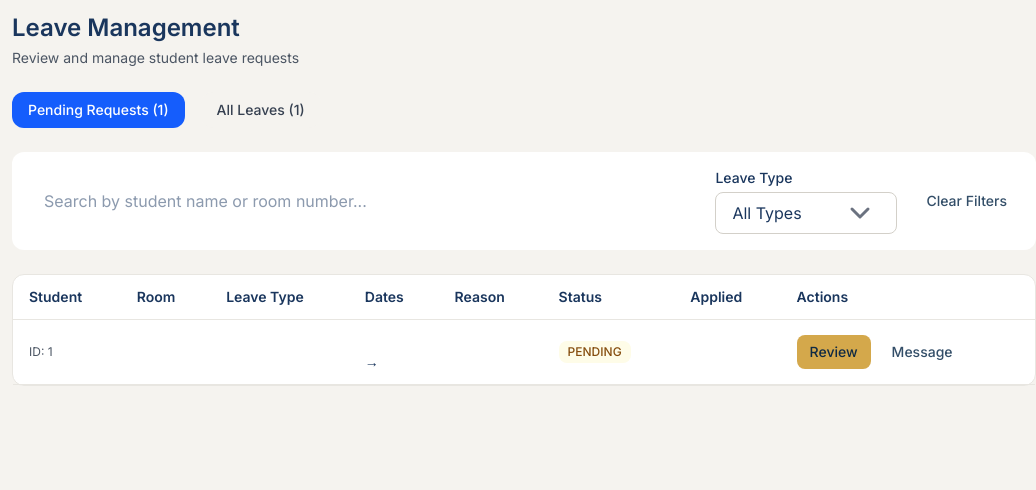
Test: Task 18.2 - Superintendent Leave Management › Filters › should clear all filters when clear button clicked
The width and height of the screenshot is (1036, 490).
Type "Test" into the field with placeholder "Search by student name or room number..." at (364, 201), box [28, 177, 699, 225]
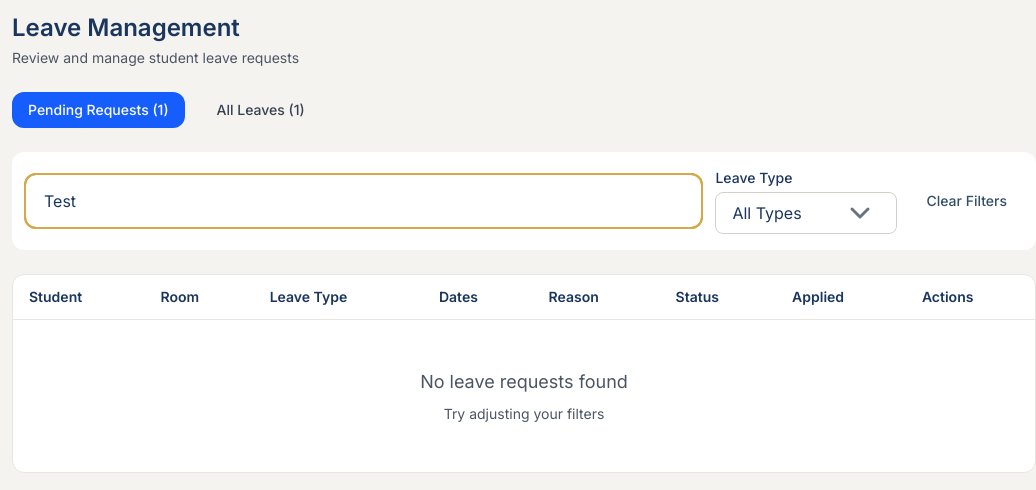
Click the button "Clear Filters" at (967, 201), box [913, 184, 1020, 218]
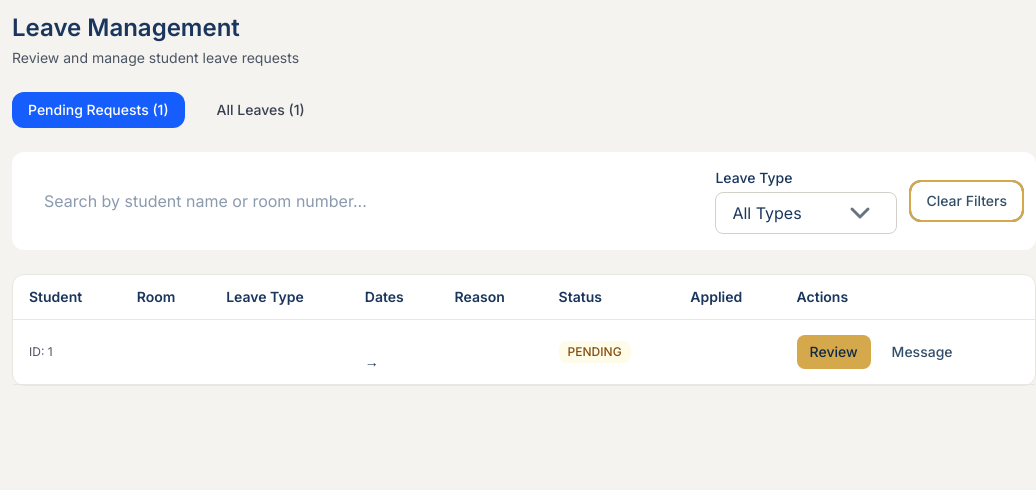
Now the field with placeholder "Search by student name or room number..." is empty, box [28, 177, 699, 225]
